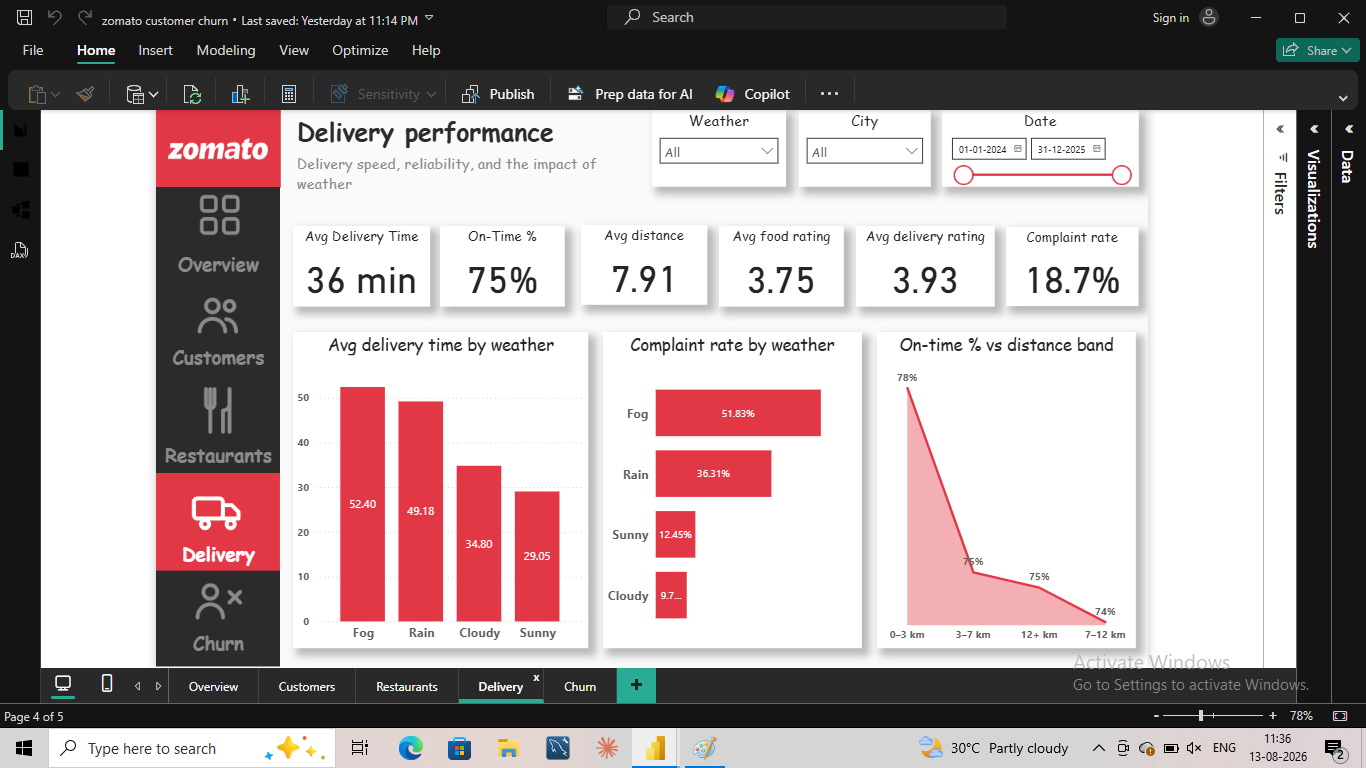

The dashboard page shown, as its layout file describes it:
{"tool":"powerbi","page":{"name":"Delivery","canvas":[1280,720],"ordinal":3},"visuals":[{"type":"slicer","title":"Weather","fields":{"Values":["deliveries.weather"]},"box":[640,0,173,99.1],"z":0},{"type":"slicer","title":"City","fields":{"Values":["cities.city_name"]},"box":[829.8,0,169.7,99.1],"z":1000},{"type":"slicer","title":"Date","fields":{"Values":["orders.order_datetime"]},"box":[1014.6,0,253.6,99.1],"z":2000},{"type":"textbox","box":[176.3,0,381.4,64.4],"z":3000},{"type":"shape","box":[0,99.8,160.5,125.8],"z":3000,"group":"g6"},{"type":"textbox","box":[176.3,50.8,450.8,62.7],"z":4000},{"type":"shape","box":[0,224.1,160.5,124.3],"z":4000,"group":"g2"},{"type":"clusteredColumnChart","title":"Avg delivery time by weather","fields":{"Category":["deliveries.weather"],"Y":["Avg(deliveries.delivery_time_minutes)"]},"box":[176.3,286.4,381.4,408.5],"z":5000},{"type":"shape","box":[0,347,160.5,124.3],"z":5000,"group":"g3"},{"type":"barChart","title":"Complaint rate by weather","fields":{"Category":["deliveries.weather"],"Y":["feedback.Complaint Rate"]},"box":[576.3,286.4,333.9,408.5],"z":6000},{"type":"shape","box":[0,467.8,159.9,126.1],"z":6000,"group":"g5"},{"type":"lineChart","title":"On-time % vs distance band","fields":{"Y":["deliveries.On-Time %"],"Category":["deliveries.Distance Band"]},"box":[930.5,286.4,333.9,408.5],"z":7000},{"type":"shape","box":[0,592.2,160.5,125.8],"z":7000,"group":"g4"},{"type":"shape","box":[0,0,161,100],"z":8000,"group":"g1"},{"type":"card","title":"Avg distance","fields":{"Values":["Avg(deliveries.distance_km)"]},"box":[548.6,148.5,162.9,103.2],"z":8000},{"type":"card","title":"Avg Delivery Time","fields":{"Values":["deliveries.Avg Delivery Time"]},"box":[177.2,149.3,177.2,103.5],"z":9000},{"type":"image","box":[0,8.7,160.5,82.4],"z":10000,"group":"g1"},{"type":"card","title":"On-Time %","fields":{"Values":["deliveries.On-Time %"]},"box":[366.3,149.3,161.2,103.5],"z":10000},{"type":"group","id":"g1","title":"Group 1","box":[0,0,161,100],"z":11000},{"type":"textbox","box":[0,176.3,161,47.5],"z":11000,"group":"g6"},{"type":"group","id":"g2","title":"Group 3","box":[0,224.1,161,125.1],"z":12000},{"type":"textbox","box":[0,296.6,161,52.5],"z":12000,"group":"g2"},{"type":"group","id":"g3","title":"Group 4","box":[0,347,161,129.3],"z":13000},{"type":"textbox","box":[0,423.7,161,52.5],"z":13000,"group":"g3"},{"type":"textbox","box":[0,550,160.9,46.8],"z":14000,"group":"g5"},{"type":"group","id":"g4","title":"Group 6","box":[0,592.2,161,126.1],"z":14000},{"type":"group","id":"g5","title":"Group 2","box":[0,467.8,160.9,129.1],"z":15000},{"type":"textbox","box":[0,665.8,161,52.5],"z":15000,"group":"g4"},{"type":"group","id":"g6","title":"Group 5","box":[0,99.5,161,126.1],"z":16000},{"type":"image","box":[18.6,225.4,125.4,76.3],"z":16000,"group":"g2"},{"type":"actionButton","box":[0,222.4,160.9,124.3],"z":17000},{"type":"image","box":[18.6,349.2,125.4,76.3],"z":17000,"group":"g3"},{"type":"actionButton","box":[0,343.8,160.9,124.3],"z":18000},{"type":"actionButton","box":[0,591.2,161.2,125.4],"z":19000},{"type":"image","box":[18.6,594.6,125.4,76.3],"z":19000,"group":"g4"},{"type":"actionButton","box":[0,100.9,160.9,124.3],"z":20000},{"type":"image","box":[17.6,475.4,125.8,79],"z":20001,"group":"g5"},{"type":"image","box":[19,99.5,125.8,71.7],"z":20002,"group":"g6"},{"type":"card","title":"Avg food rating","fields":{"Values":["Avg(feedback.food_rating)"]},"box":[726.6,149.3,161.2,103.5],"z":21000},{"type":"card","title":"Avg delivery rating","fields":{"Values":["Avg(feedback.delivery_rating)"]},"box":[903.8,149.3,179.2,103.5],"z":22000},{"type":"card","title":"Complaint rate","fields":{"Values":["feedback.Complaint Rate"]},"box":[1096.9,151.3,171.2,101.5],"z":23000}]}

Visuals, with their boxes on the page's 1280x720 design canvas (x1, y1, x2, y2). These are canvas units, not pixel positions in the 1366x768 screenshot, which may show the page scaled, cropped or inside an application window:
"Weather" slicer: {"left": 640, "top": 0, "right": 813, "bottom": 99}
"City" slicer: {"left": 830, "top": 0, "right": 1000, "bottom": 99}
"Date" slicer: {"left": 1015, "top": 0, "right": 1268, "bottom": 99}
textbox: {"left": 176, "top": 0, "right": 558, "bottom": 64}
shape: {"left": 0, "top": 100, "right": 160, "bottom": 226}
textbox: {"left": 176, "top": 51, "right": 627, "bottom": 114}
shape: {"left": 0, "top": 224, "right": 160, "bottom": 348}
"Avg delivery time by weather" clusteredColumnChart: {"left": 176, "top": 286, "right": 558, "bottom": 695}
shape: {"left": 0, "top": 347, "right": 160, "bottom": 471}
"Complaint rate by weather" barChart: {"left": 576, "top": 286, "right": 910, "bottom": 695}
shape: {"left": 0, "top": 468, "right": 160, "bottom": 594}
"On-time % vs distance band" lineChart: {"left": 930, "top": 286, "right": 1264, "bottom": 695}
shape: {"left": 0, "top": 592, "right": 160, "bottom": 718}
shape: {"left": 0, "top": 0, "right": 161, "bottom": 100}
"Avg distance" card: {"left": 549, "top": 148, "right": 712, "bottom": 252}
"Avg Delivery Time" card: {"left": 177, "top": 149, "right": 354, "bottom": 253}
image: {"left": 0, "top": 9, "right": 160, "bottom": 91}
"On-Time %" card: {"left": 366, "top": 149, "right": 528, "bottom": 253}
"Group 1" group: {"left": 0, "top": 0, "right": 161, "bottom": 100}
textbox: {"left": 0, "top": 176, "right": 161, "bottom": 224}
"Group 3" group: {"left": 0, "top": 224, "right": 161, "bottom": 349}
textbox: {"left": 0, "top": 297, "right": 161, "bottom": 349}
"Group 4" group: {"left": 0, "top": 347, "right": 161, "bottom": 476}
textbox: {"left": 0, "top": 424, "right": 161, "bottom": 476}
textbox: {"left": 0, "top": 550, "right": 161, "bottom": 597}
"Group 6" group: {"left": 0, "top": 592, "right": 161, "bottom": 718}
"Group 2" group: {"left": 0, "top": 468, "right": 161, "bottom": 597}
textbox: {"left": 0, "top": 666, "right": 161, "bottom": 718}
"Group 5" group: {"left": 0, "top": 100, "right": 161, "bottom": 226}
image: {"left": 19, "top": 225, "right": 144, "bottom": 302}
actionButton: {"left": 0, "top": 222, "right": 161, "bottom": 347}
image: {"left": 19, "top": 349, "right": 144, "bottom": 426}
actionButton: {"left": 0, "top": 344, "right": 161, "bottom": 468}
actionButton: {"left": 0, "top": 591, "right": 161, "bottom": 717}
image: {"left": 19, "top": 595, "right": 144, "bottom": 671}
actionButton: {"left": 0, "top": 101, "right": 161, "bottom": 225}
image: {"left": 18, "top": 475, "right": 143, "bottom": 554}
image: {"left": 19, "top": 100, "right": 145, "bottom": 171}
"Avg food rating" card: {"left": 727, "top": 149, "right": 888, "bottom": 253}
"Avg delivery rating" card: {"left": 904, "top": 149, "right": 1083, "bottom": 253}
"Complaint rate" card: {"left": 1097, "top": 151, "right": 1268, "bottom": 253}
